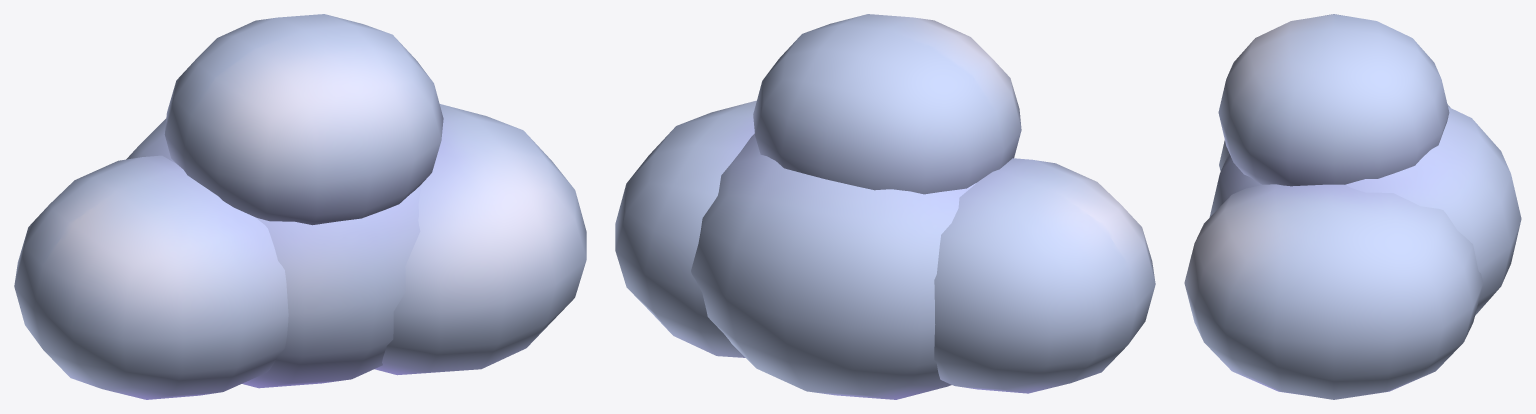
Rendered from Cloud.fbx.
3 renders of one model, left to right at view 1: azimuth 30°, elevation 25°; view 2: azimuth 150°, elevation 25°; view 3: azimuth 270°, elevation 25°, orthographic. The views are drawn at different scales.
Parts seen in each view (by area): view 1: cloud; view 2: cloud; view 3: cloud.
Part boxes in pixels (<box>): cloud: <box>14,14,586,399</box>; cloud: <box>615,14,1155,399</box>; cloud: <box>1184,14,1521,399</box>.
Bounding box in the file's own units: 1.03 × 0.6591 × 0.6615.
Materials: 1 (1 with a texture image).
